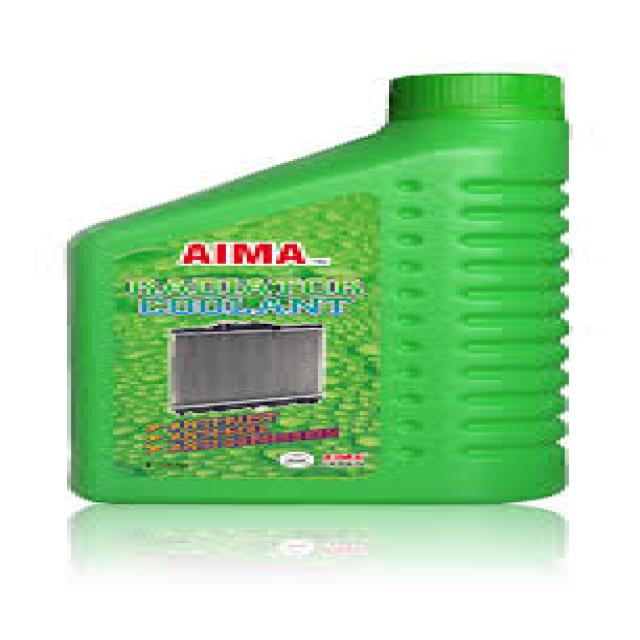coolant: (57, 63, 580, 510)
